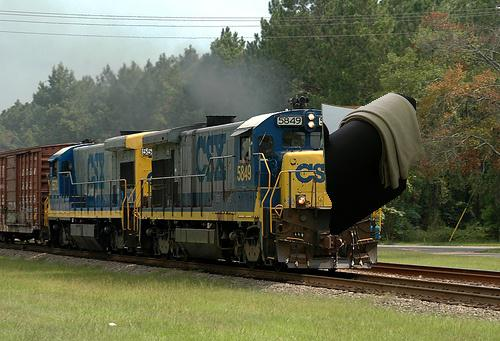tampered: (322, 92, 425, 235)
